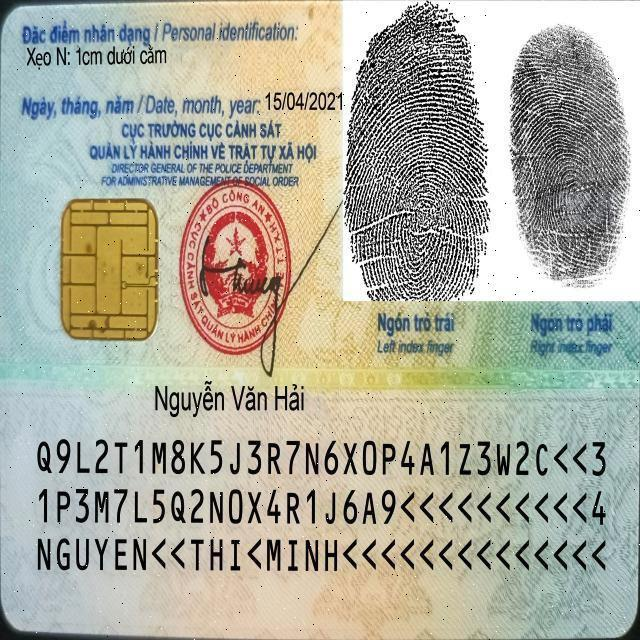features: (22, 41, 184, 78)
finger_print: (345, 1, 497, 355), (497, 1, 640, 352)
issue_date: (264, 88, 344, 116)
